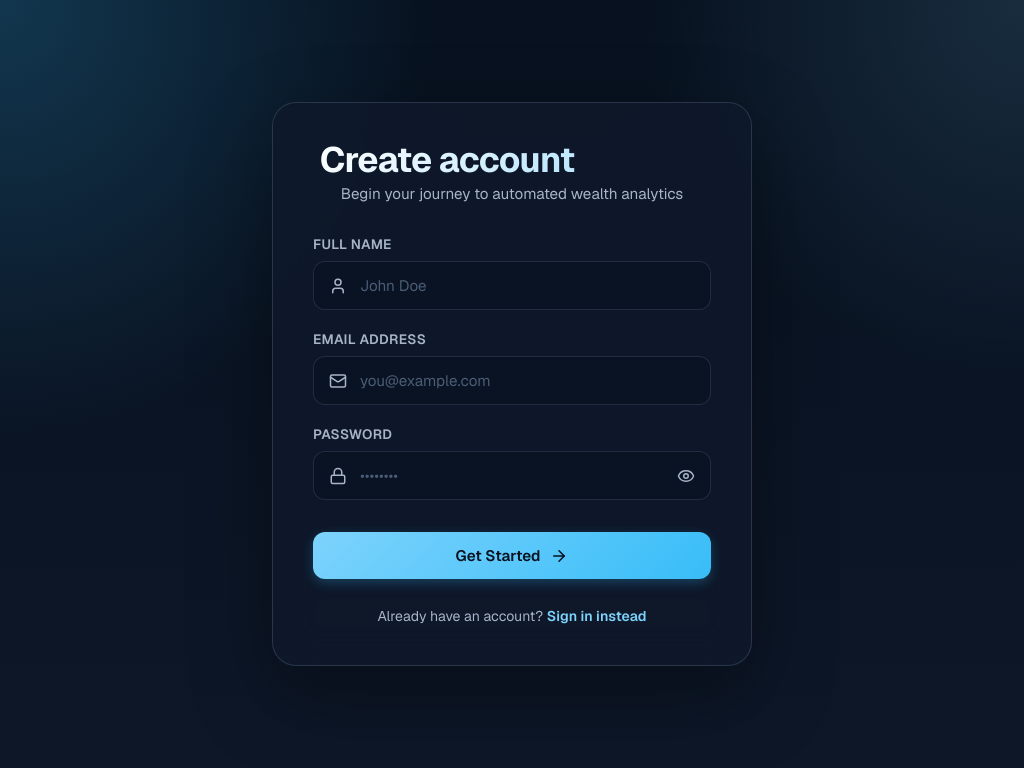
Test: Auth Forms Validation › RegisterPage validates password length
Type "Agus" into the field labelled "FULL NAME". click: (512, 286)
box: top-left (313, 261), bottom-right (711, 310)
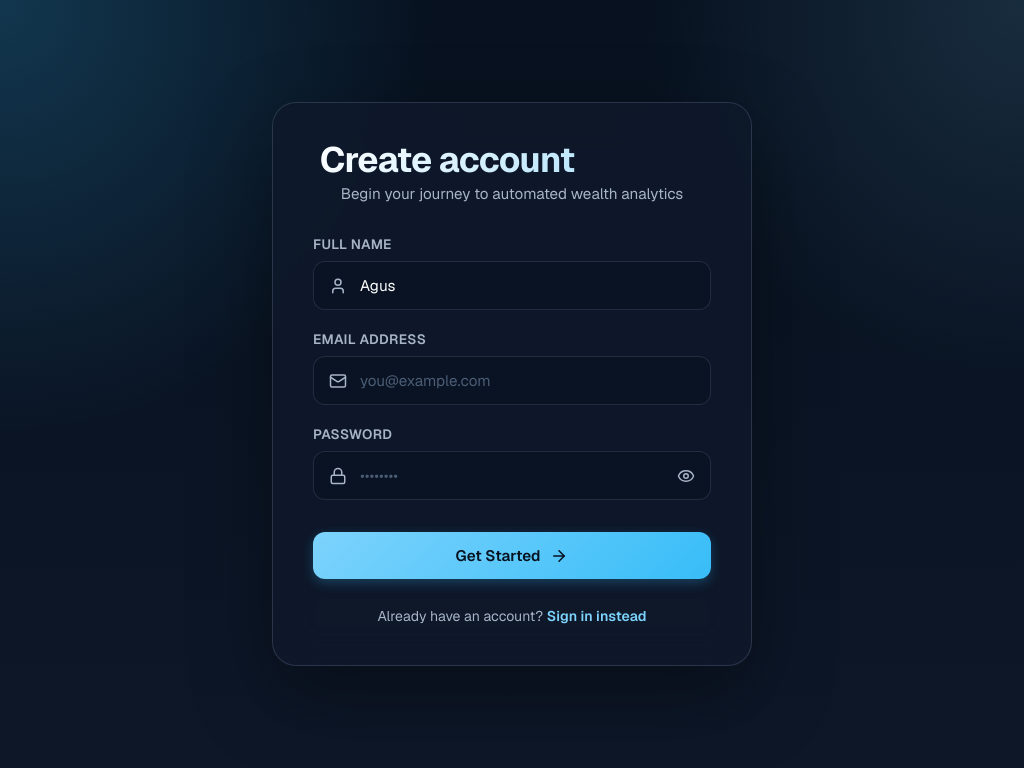
Type "agus@example.com" into the field labelled "EMAIL ADDRESS". click: (512, 381)
box: top-left (313, 356), bottom-right (711, 405)
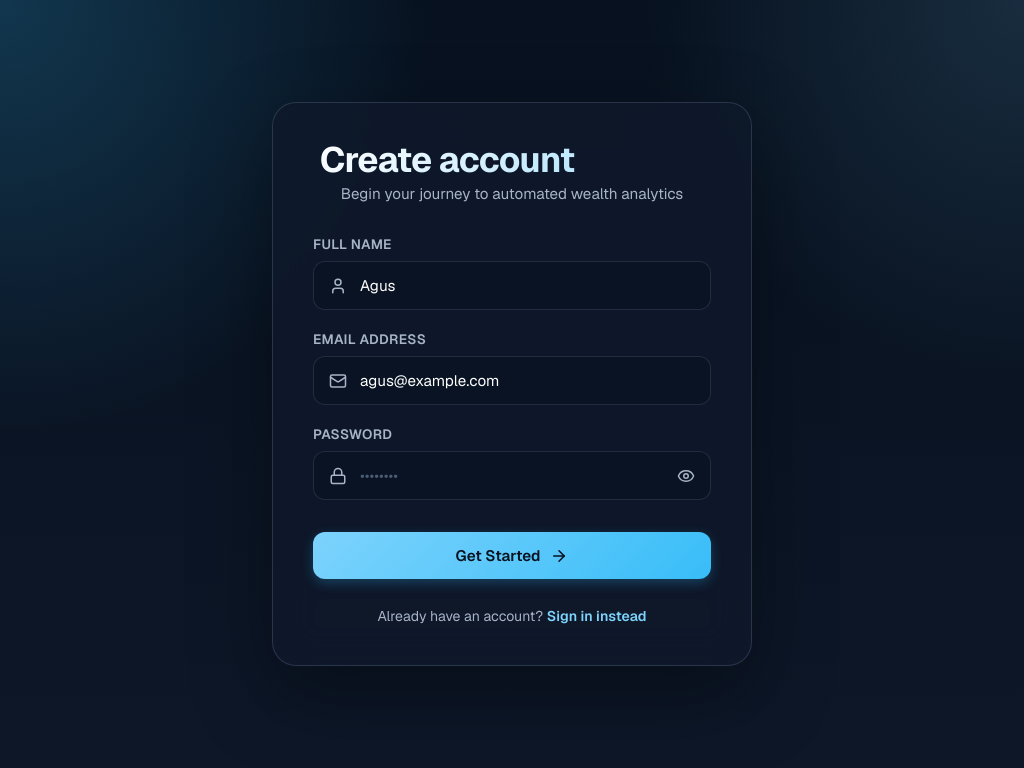
Type "1234567" into the password field labelled "PASSWORD". click: (512, 476)
box: top-left (313, 451), bottom-right (711, 500)
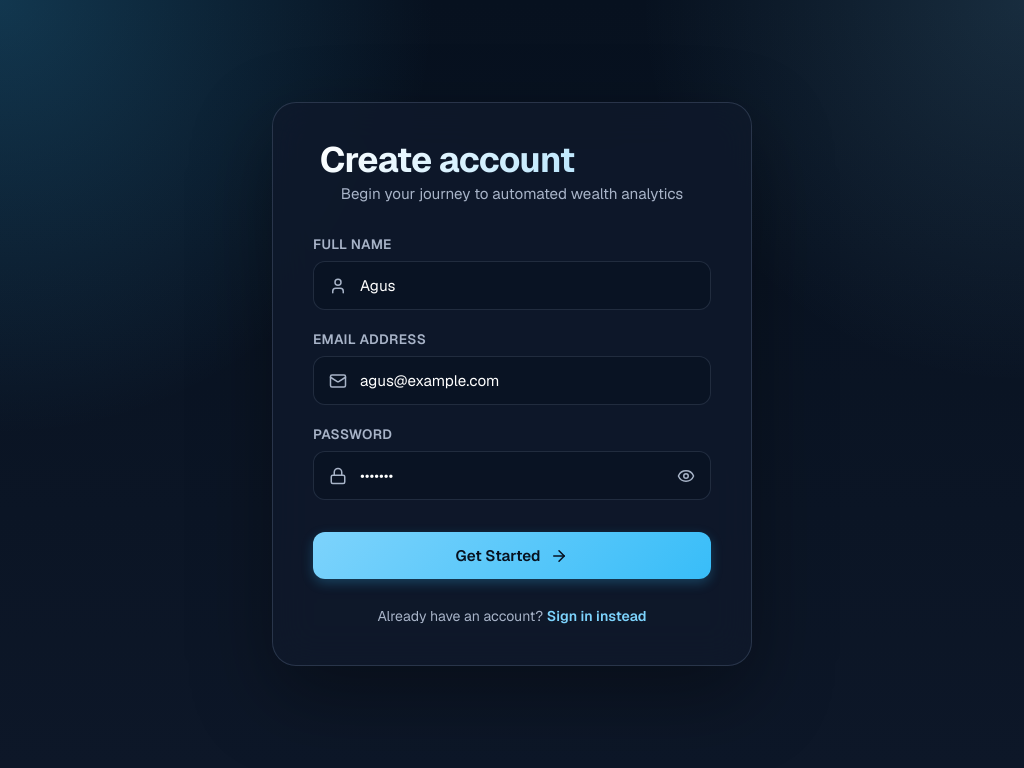
Submit the form labelled "FULL NAME EMAIL ADDRESS PASSWORD Get Started", box top-left (313, 235), bottom-right (711, 579)
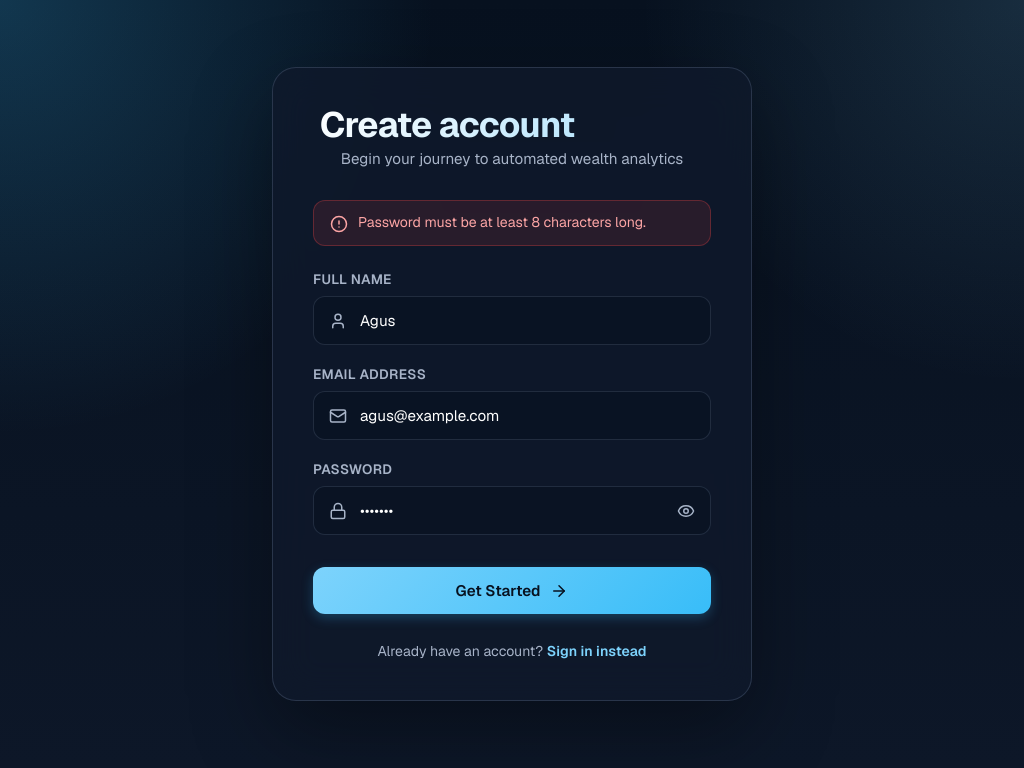
Now the text "Password must be at least 8 characters long." is shown, box top-left (358, 213), bottom-right (646, 231)
